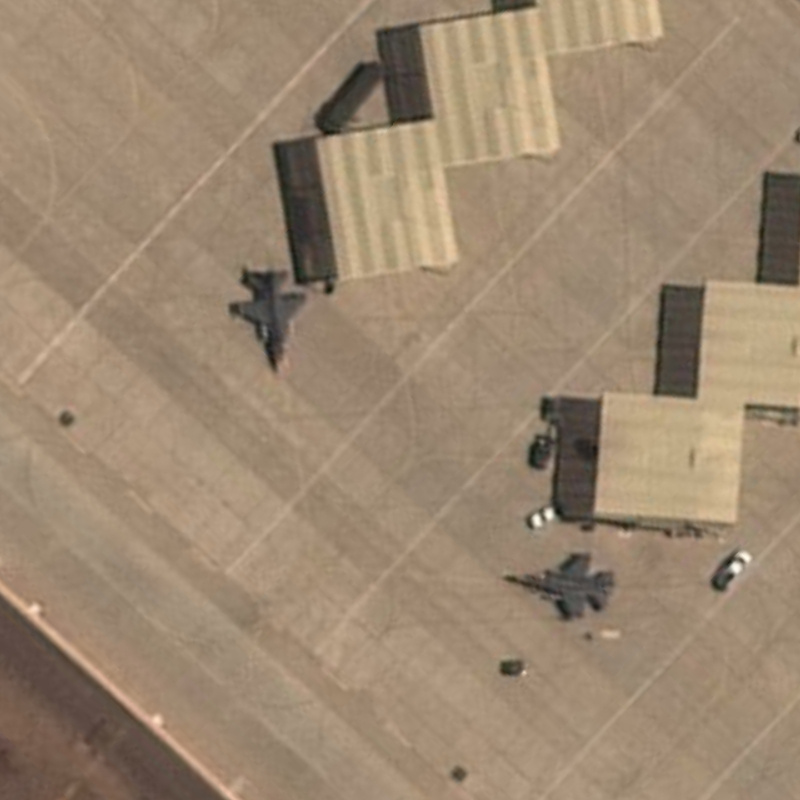A5: (223, 255, 312, 378), (502, 544, 621, 626)
